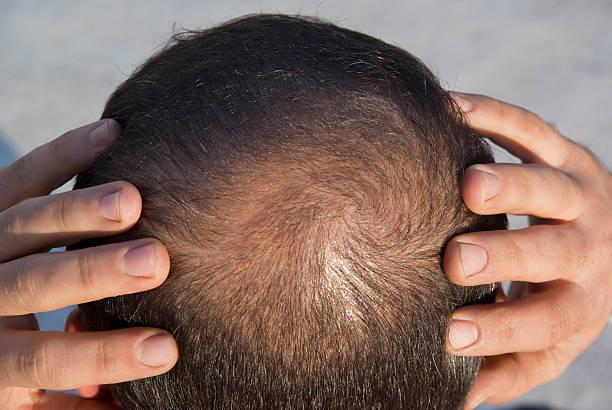low hair density: (212, 165, 401, 256)
